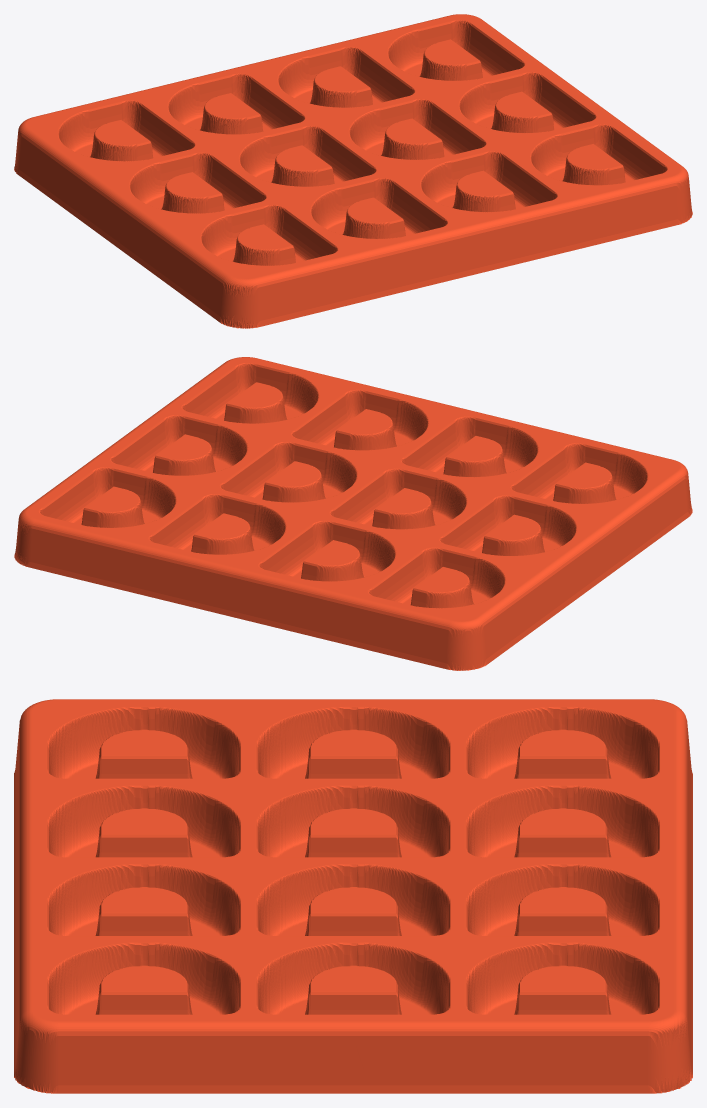
File: mold.glb
The picture shows the model from 3 angles, top to bottom: view 1: azimuth 30°, elevation 25°; view 2: azimuth 150°, elevation 25°; view 3: azimuth 270°, elevation 25°; orthographic projection. The views are drawn at different scales.
Parts seen in each view (by area): view 1: geometry_0; view 2: geometry_0; view 3: geometry_0.
Part boxes in pixels (bbox=[...]): geometry_0: bbox=[14, 14, 692, 328]; geometry_0: bbox=[14, 357, 692, 670]; geometry_0: bbox=[14, 699, 692, 1093].
Bounding box in the file's own units: 0.1609 × 0.0145 × 0.1374.
